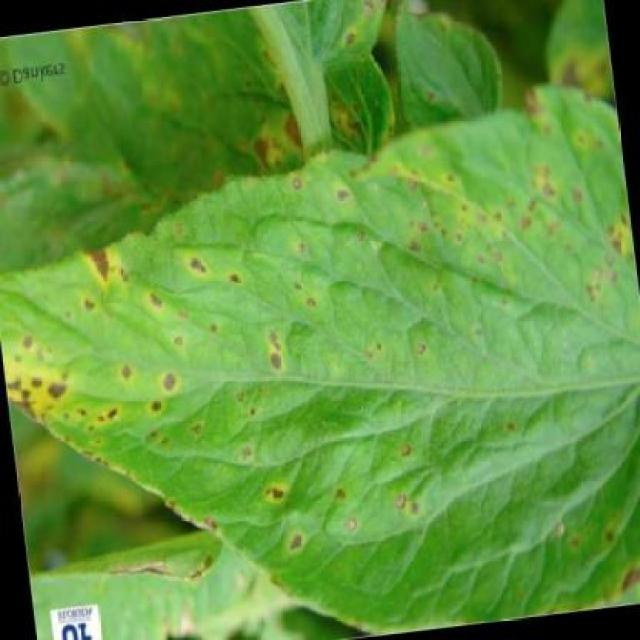Tomato leaf bacterial spot: (0, 63, 638, 638)
